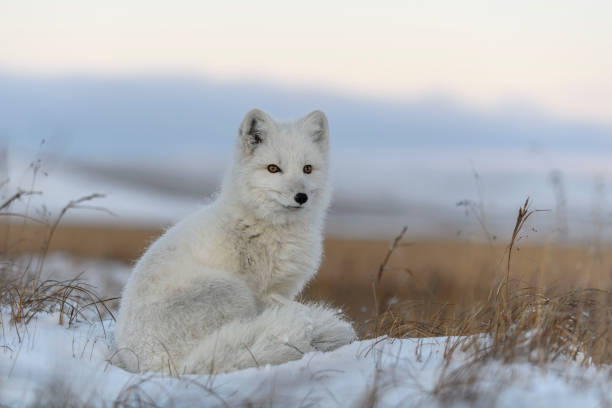arcticfox: (256, 136, 337, 231)
